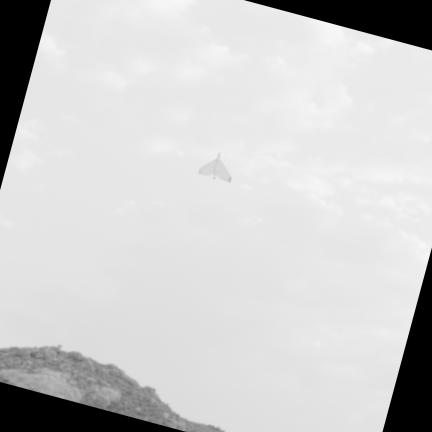Shahed: (198, 153, 230, 181)
